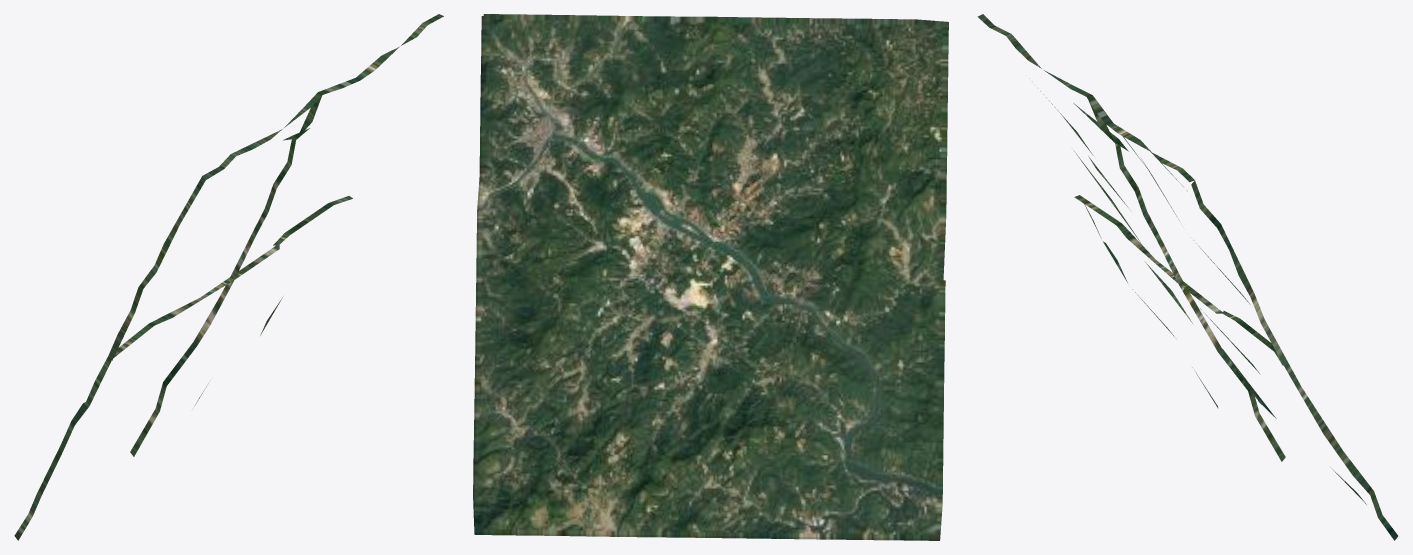
3 views of the same model, side by side, from view 1: azimuth 30°, elevation 25°; view 2: azimuth 150°, elevation 25°; view 3: azimuth 270°, elevation 25° (orthographic). The views are drawn at different scales.
Size of the model in its own units: 39433 by 35774 by 33097.
1 material, 1 textured.
